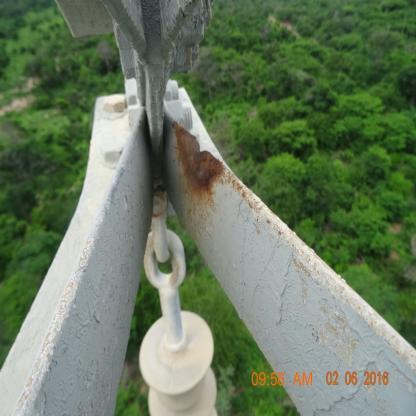rust: (169, 148, 415, 412), (174, 123, 227, 193)
